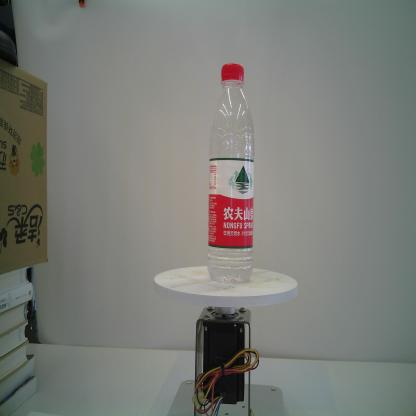Drink: (206, 63, 254, 284)
